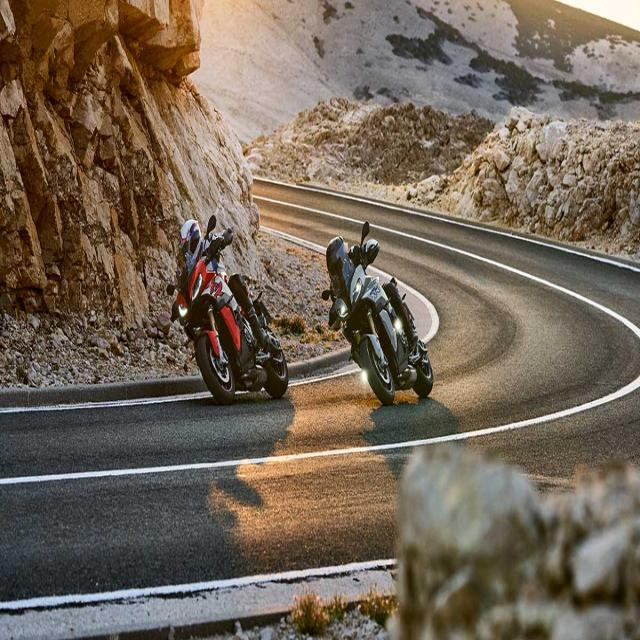MOTORCYCLE: (178, 258, 294, 409), (329, 264, 437, 403)
